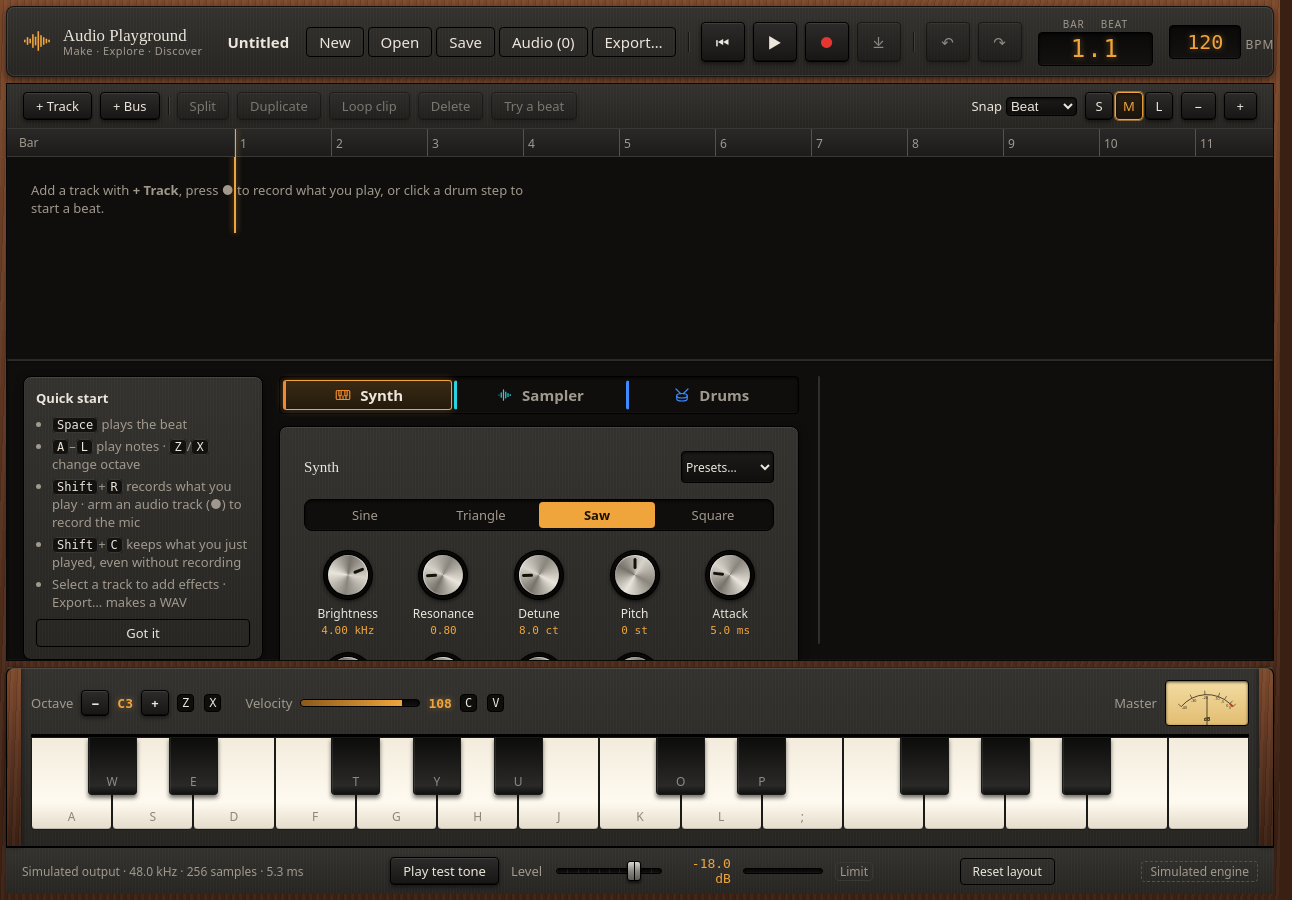
App › records a whole slider drag as one undo step (keyboard shortcut)
The width and height of the screenshot is (1292, 900).
Press the mouse on the slider labelled "Level" at [609, 871], box top-left (556, 860), bottom-right (662, 882)
Set the slider labelled "Level" to "600" at [618, 871], box top-left (556, 860), bottom-right (662, 882)
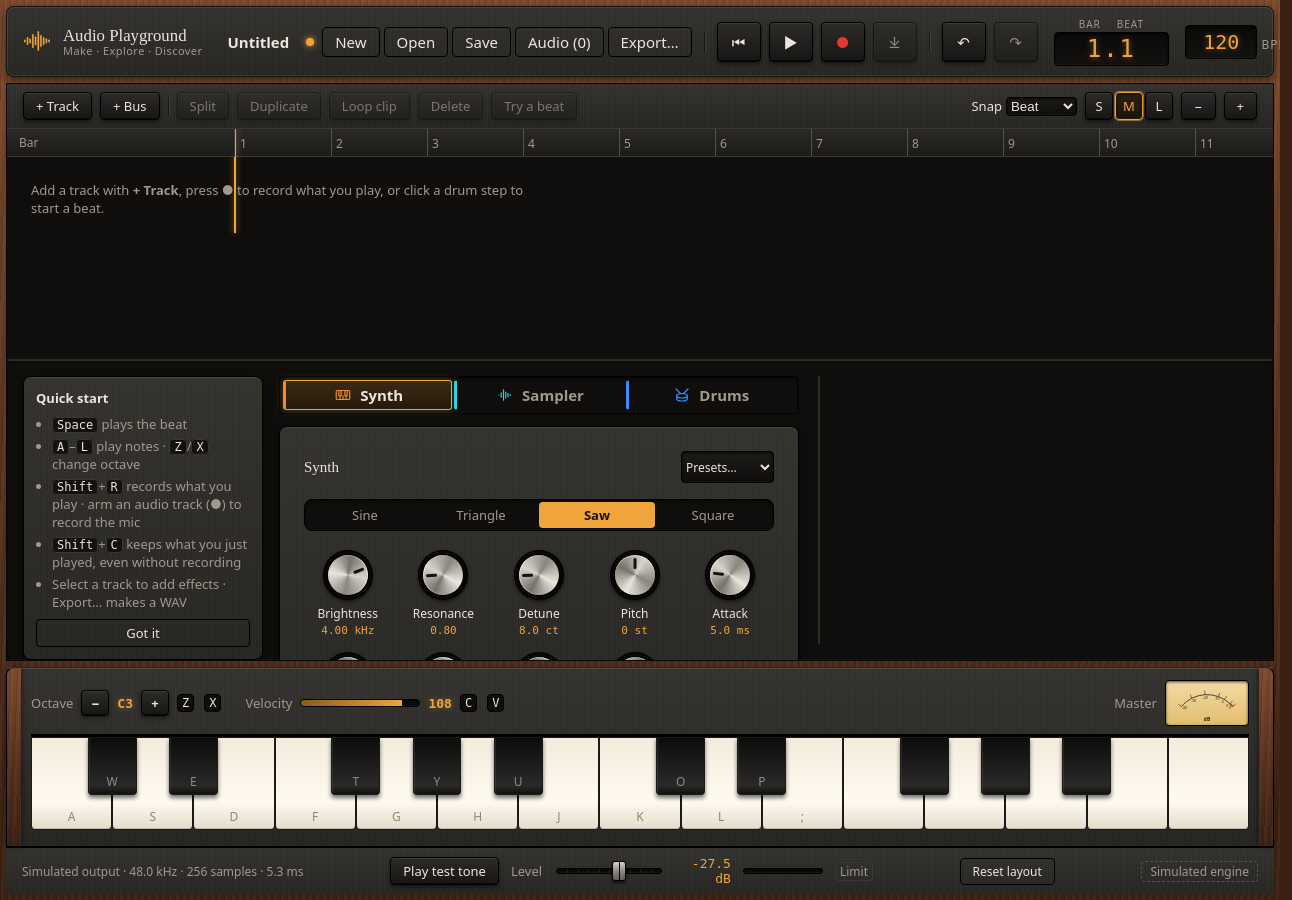
Set the slider labelled "Level" to "700" at [627, 871], box top-left (556, 860), bottom-right (662, 882)
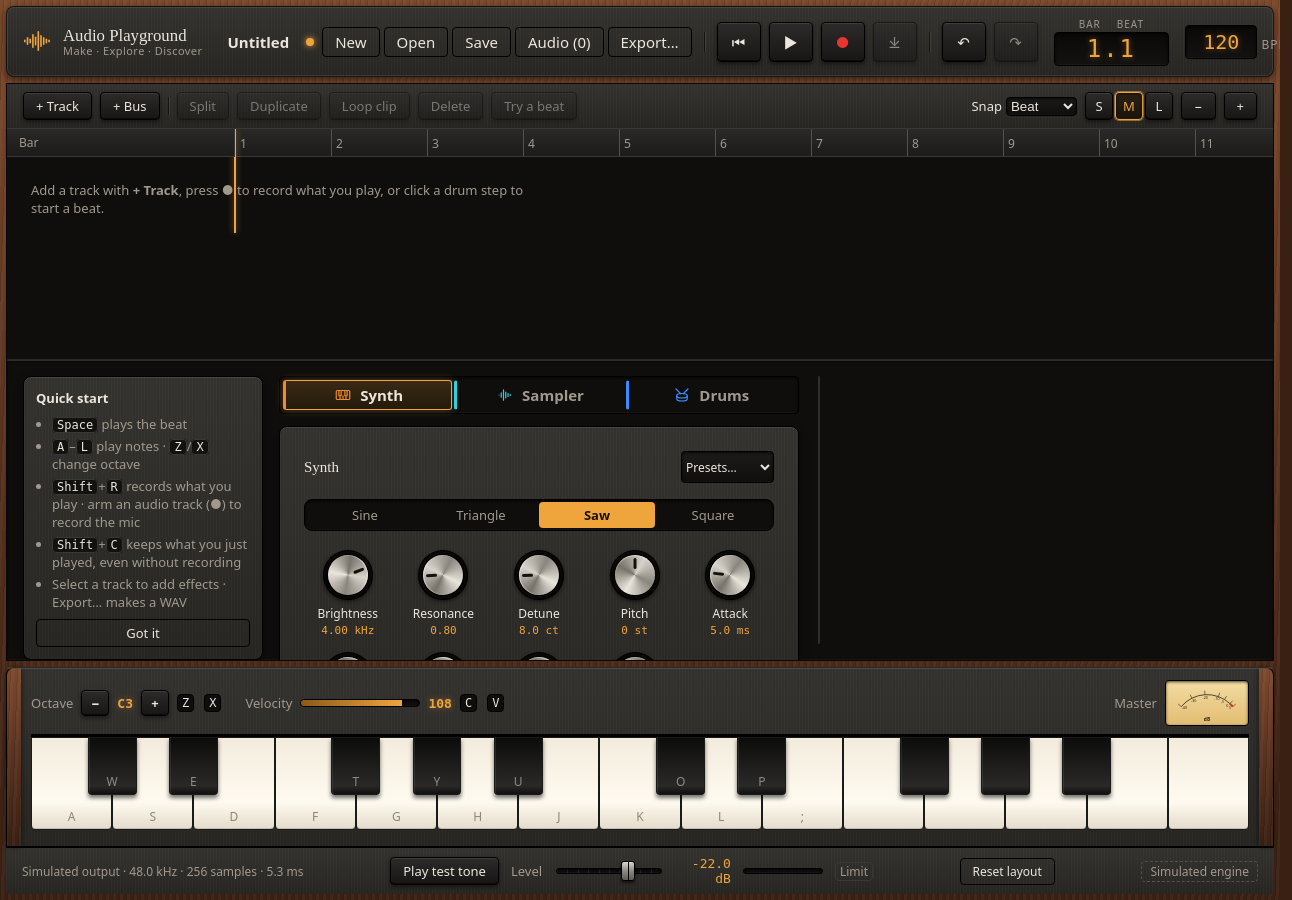
Set the slider labelled "Level" to "800" at [636, 871], box top-left (556, 860), bottom-right (662, 882)
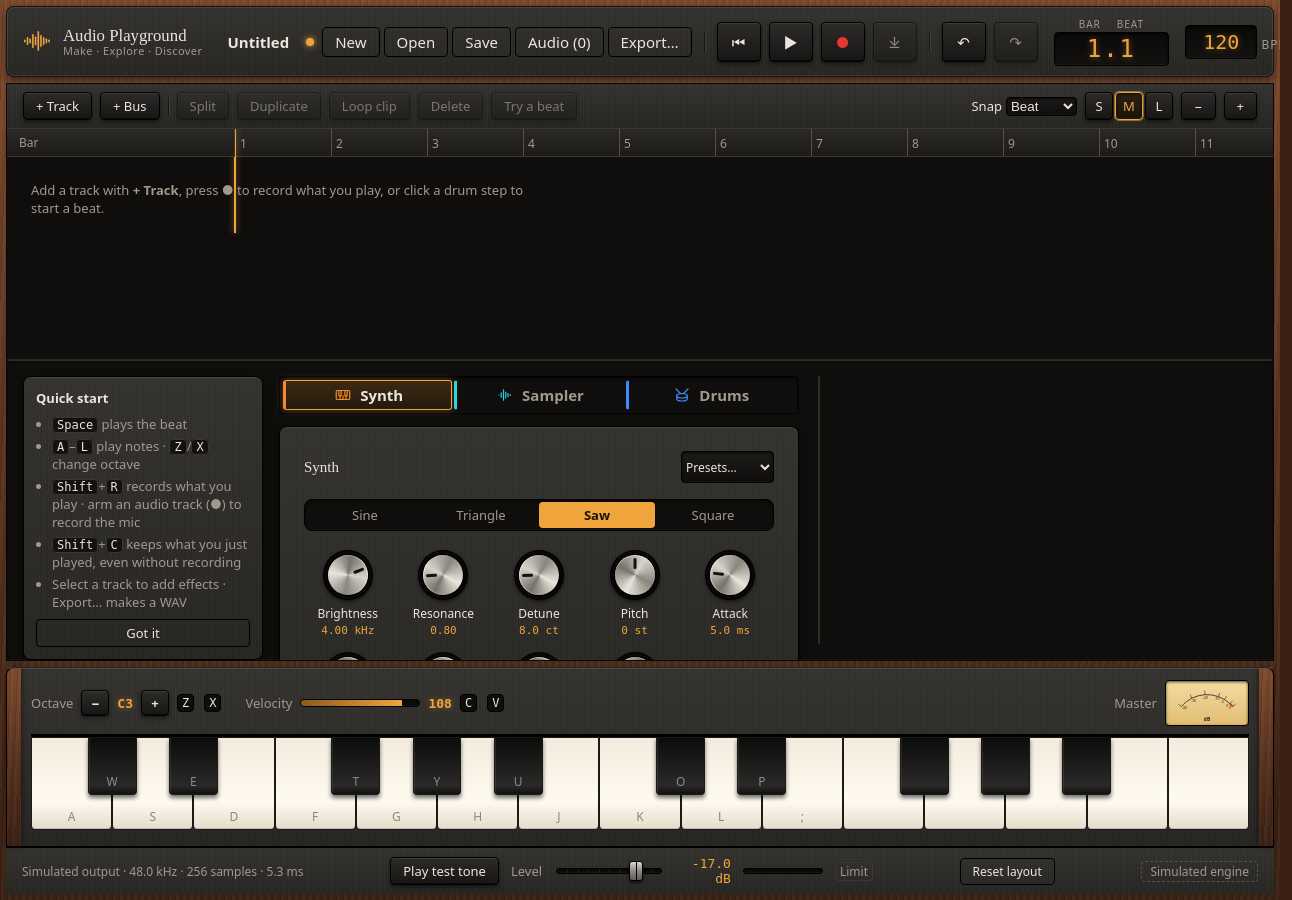
Set the slider labelled "Level" to "900" at [645, 871], box top-left (556, 860), bottom-right (662, 882)
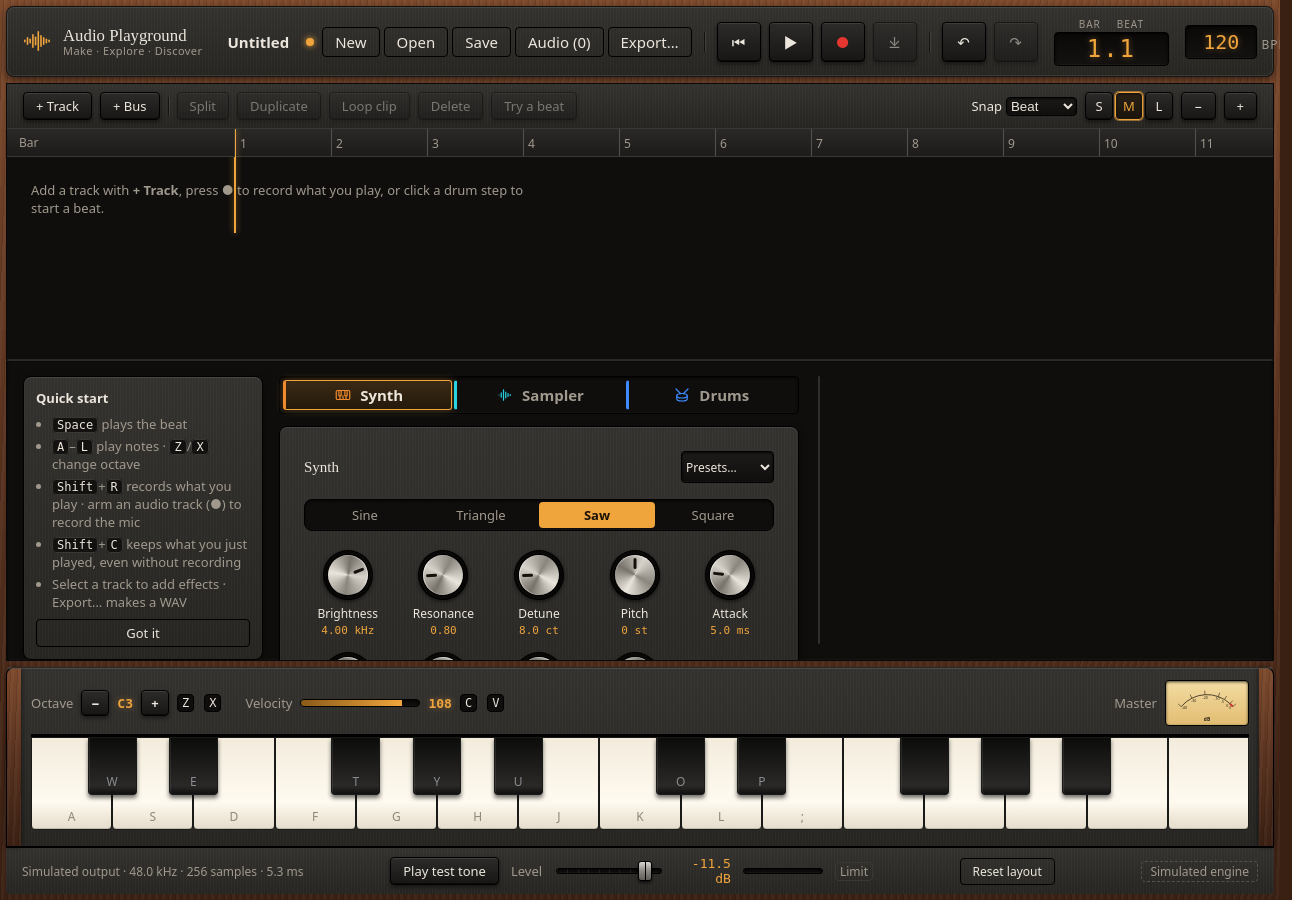
expect the slider labelled "Level" does not have attribute aria-valuetext="-18.0 dB": met, box top-left (556, 860), bottom-right (662, 882)
Press z
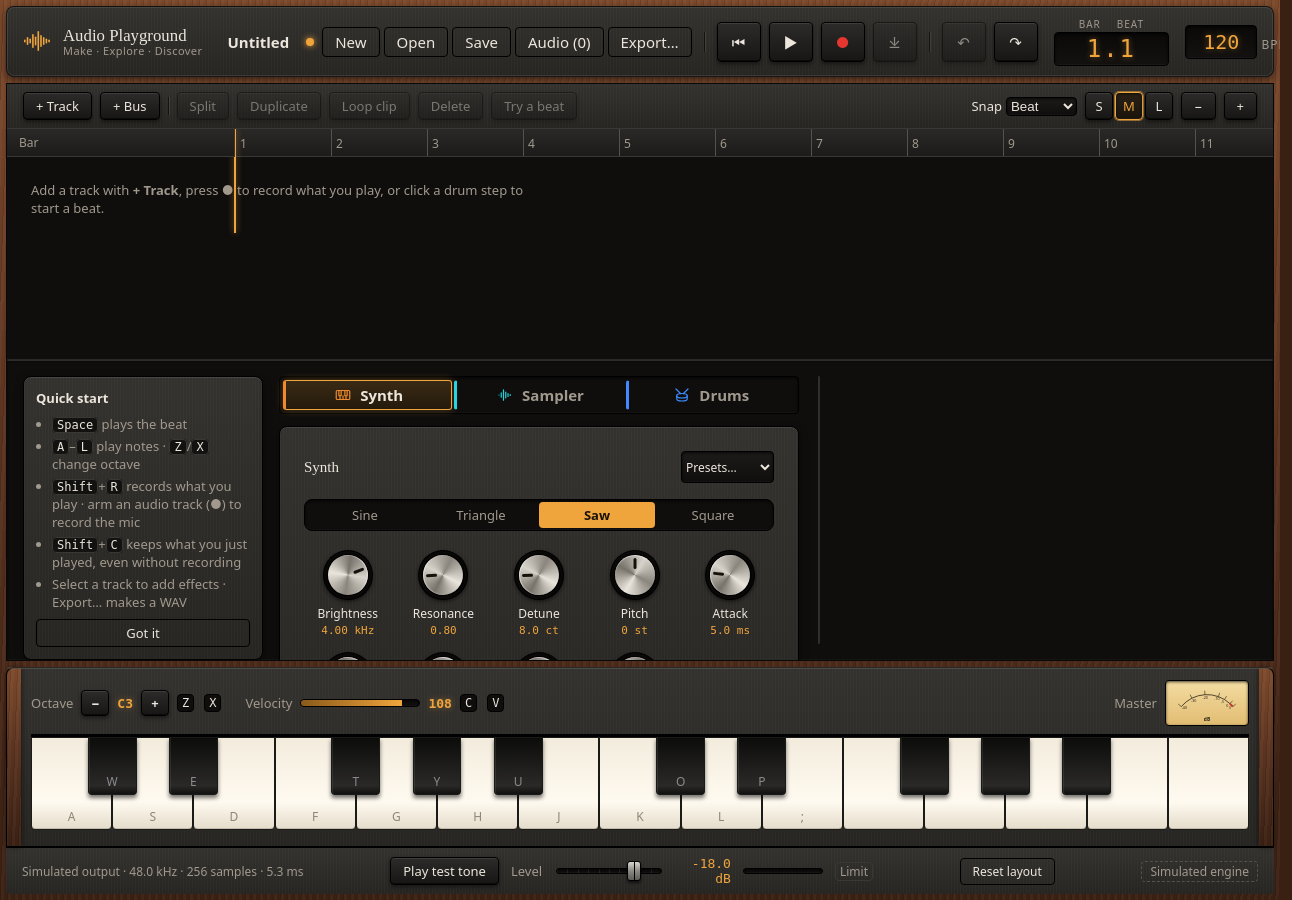
expect the button named "Undo" is disabled: met, box top-left (942, 22), bottom-right (986, 62)
